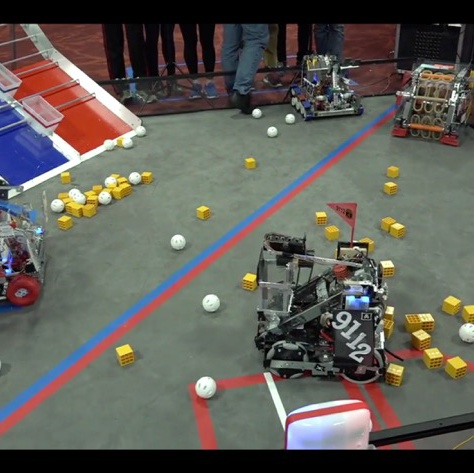robot: (252, 198, 391, 389), (388, 57, 474, 150), (0, 176, 50, 310), (288, 51, 368, 122)
